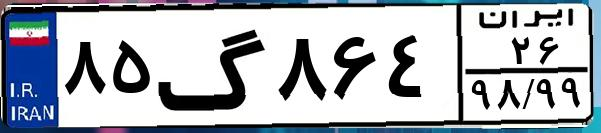2: (508, 27, 537, 80)
4: (385, 28, 445, 110)
5: (110, 28, 156, 98)
6: (330, 28, 385, 110), (537, 27, 568, 80)
8: (270, 28, 330, 110), (57, 26, 110, 100), (495, 70, 520, 125)
9: (560, 70, 590, 125), (470, 70, 495, 125), (535, 70, 560, 125)
گ: (156, 12, 270, 120)
